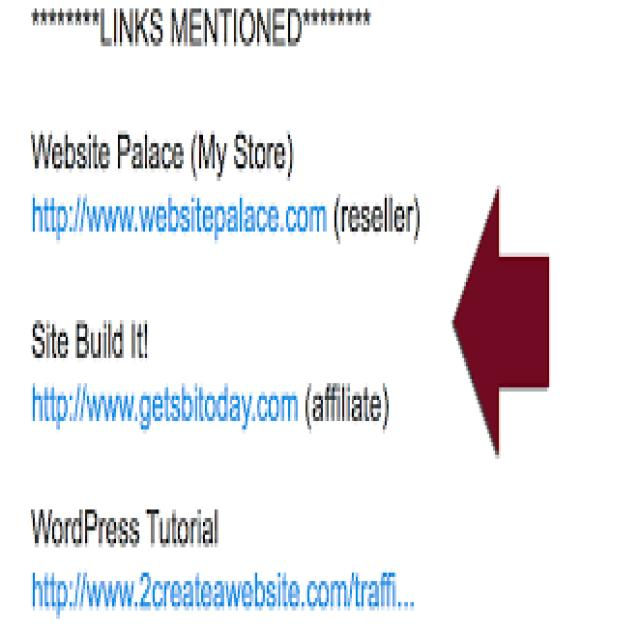links: (31, 574, 414, 618), (30, 201, 328, 246), (31, 386, 300, 426)
text: (29, 129, 294, 181), (99, 4, 302, 56), (29, 507, 217, 550), (34, 315, 148, 368)
